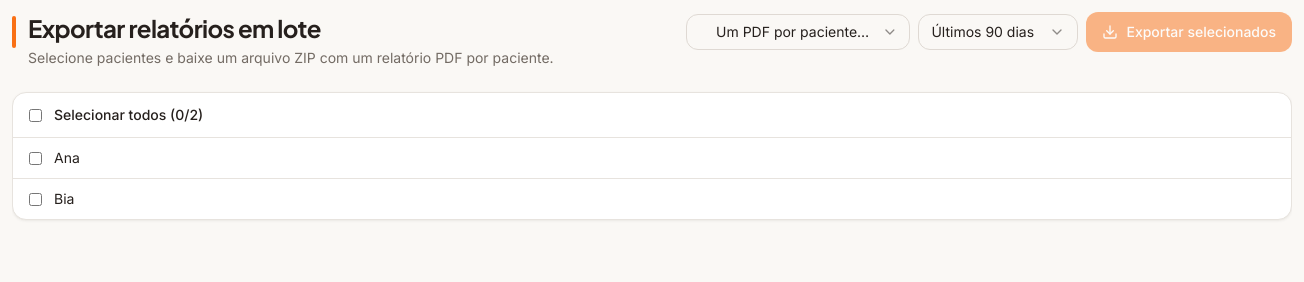
Test: Exportar em lote — formato padrão ZIP › avisa quando só parte entrou
Step 1. Click the checkbox labelled "Selecionar todos" → (36, 115), box [29,108,42,122]
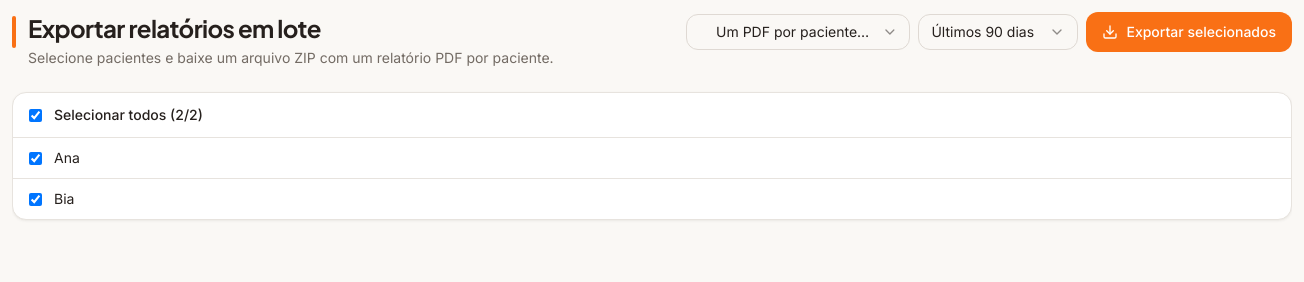
Step 2. Click the button "Exportar selecionados" → (1189, 32), box [1086,12,1292,52]
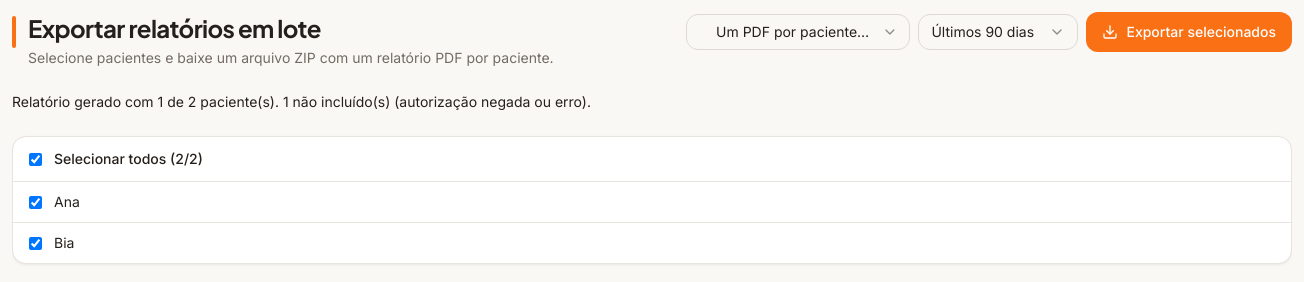
Check: the message shows "1 de 2 paciente(s). 1 não incluído(s)", box [12,93,591,110]
